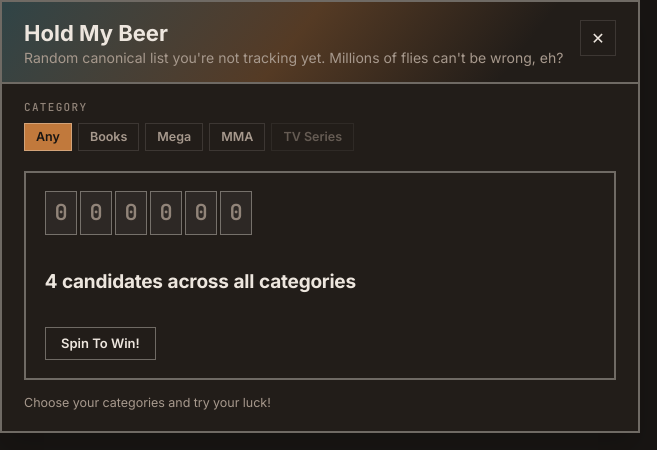
the shelves › are additive toggles; Any clears them; the count follows
Check: the button "Spin To Win!" is shown, box [45, 328, 156, 360]
What coordinates should you click on to do the following:
click the button "Books"
I would click on:
 (109, 137)
Its box is [78, 123, 139, 152].
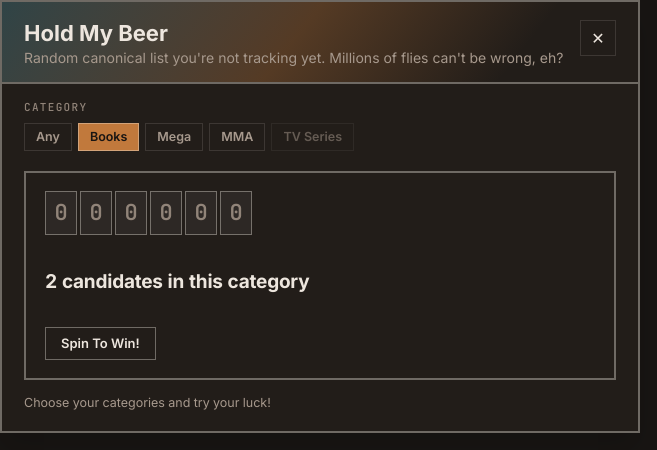
Check: the text "2 candidates in this category" is shown, box [45, 270, 309, 293]
What coordinates should you click on to do the following:
click the button "MMA"
I would click on:
 (237, 137)
Its box is [209, 123, 266, 152].
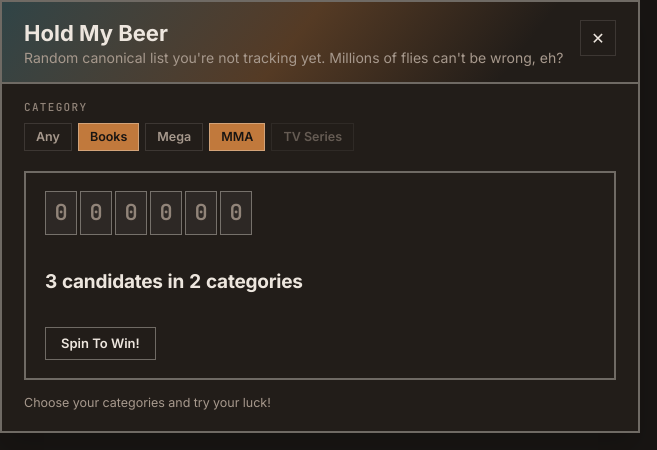
Check: the text "3 candidates in 2 categories" is shown, box [45, 270, 303, 293]
What coordinates should you click on to do the following:
click the button "Any"
I would click on:
 (48, 137)
Its box is [24, 123, 72, 152].
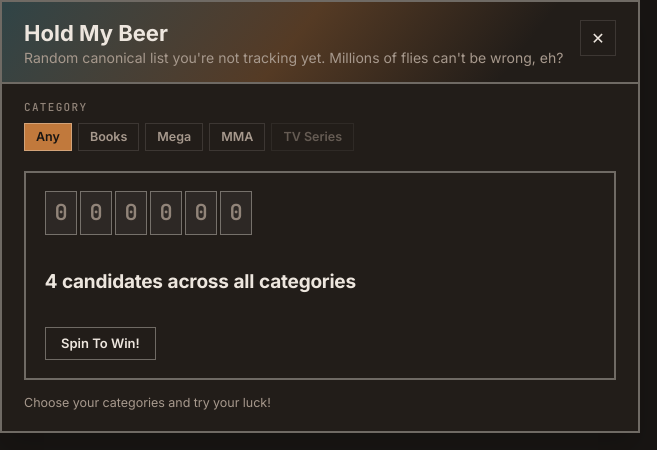
Check: the text "4 candidates across all categories" is shown, box [45, 270, 356, 293]
